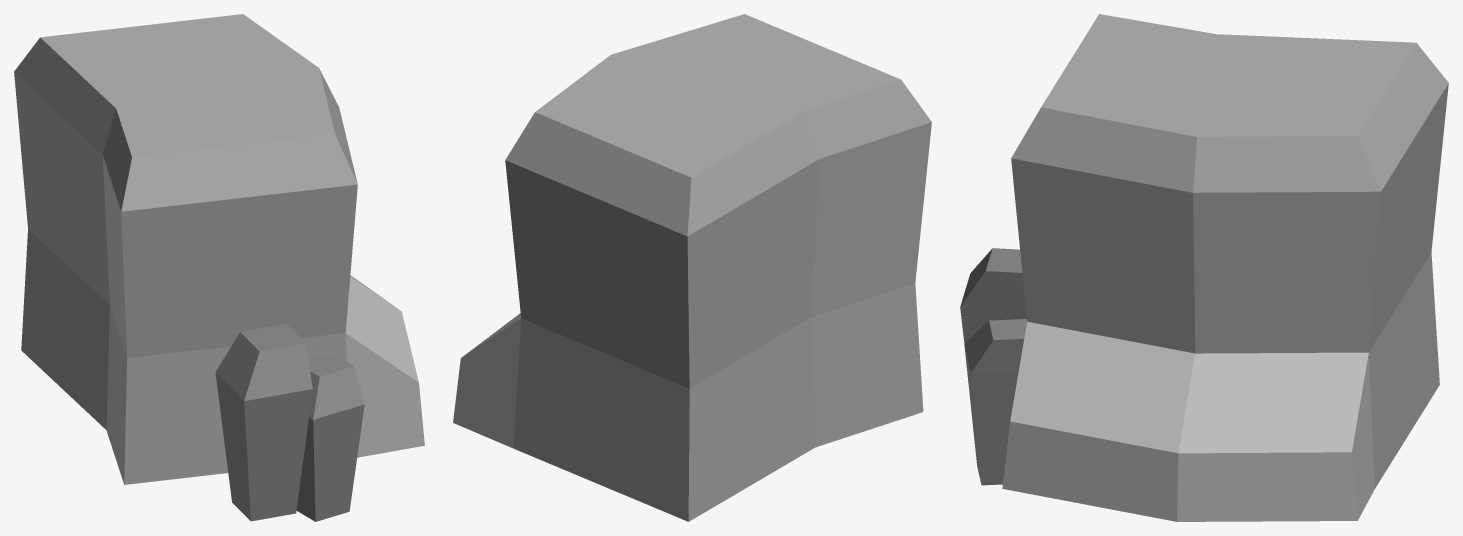
Rendered from rock-type6-03-grey.glb.
3 renders of one model, left to right at view 1: azimuth 30°, elevation 25°; view 2: azimuth 150°, elevation 25°; view 3: azimuth 270°, elevation 25°, orthographic. The views are drawn at different scales.
Parts seen in each view (by area): view 1: Rock_Type6_03_mesh; view 2: Rock_Type6_03_mesh; view 3: Rock_Type6_03_mesh.
Part boxes in pixels (x1,y1,x2,y2): Rock_Type6_03_mesh: [14, 14, 424, 521]; Rock_Type6_03_mesh: [453, 14, 931, 521]; Rock_Type6_03_mesh: [960, 14, 1448, 521].
Size of the model in its own units: 1.11 by 1.14 by 1.31.
1 material, 1 textured.
